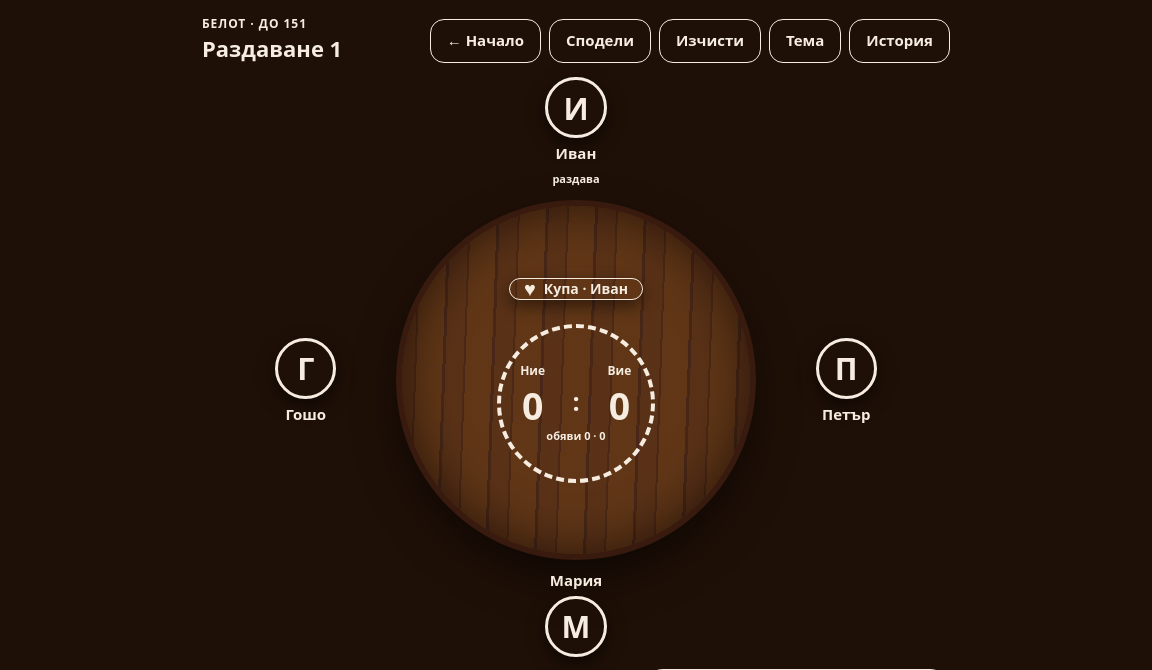
it: Declarations popover › lists the allowed declarations, named by option and points
Click the button named "Иван": (576, 108) top-left (545, 77), bottom-right (607, 138)
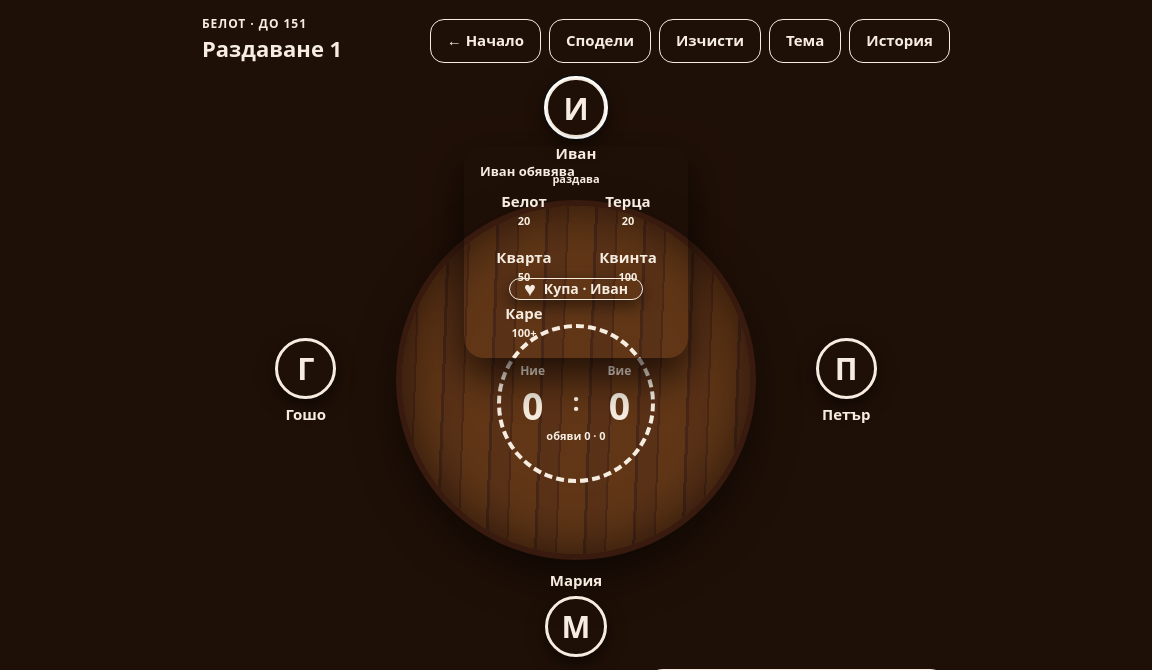
Expected: the button "Белот 20" is shown, top-left (476, 186), bottom-right (572, 234)
Expected: the button "Терца 20" is shown, top-left (580, 186), bottom-right (676, 234)
Expected: the button "Кварта 50" is shown, top-left (476, 242), bottom-right (572, 290)
